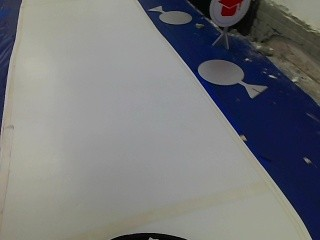school: (207, 0, 251, 27)
